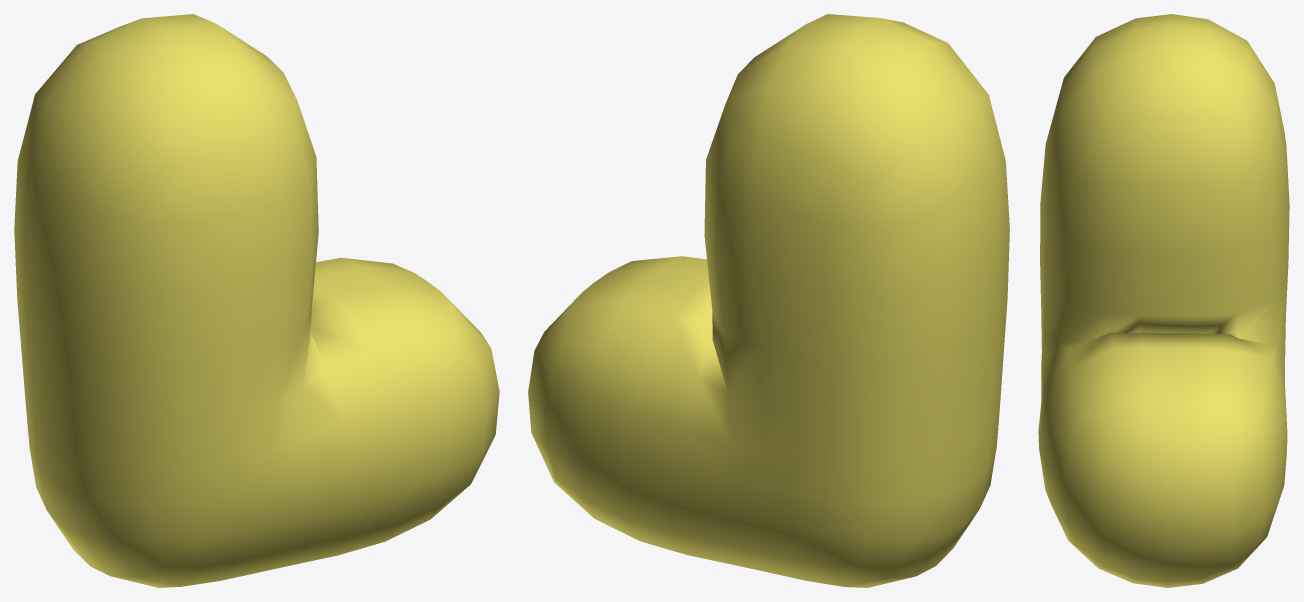
3 renders of one model, left to right at view 1: azimuth 30°, elevation 25°; view 2: azimuth 150°, elevation 25°; view 3: azimuth 270°, elevation 25°, orthographic. The views are drawn at different scales.
Parts seen in each view (by area): view 1: Object_26; view 2: Object_26; view 3: Object_26.
Boxes of the visible parts, x1,y1,x2,y2 form: Object_26: (14,14,499,587); Object_26: (528,14,1009,587); Object_26: (1038,14,1289,587).
Bounding box in the file's own units: 77.43 × 93.65 × 44.68.
